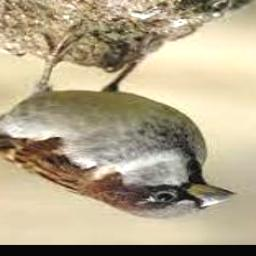Sparrow: (0, 32, 238, 218)
